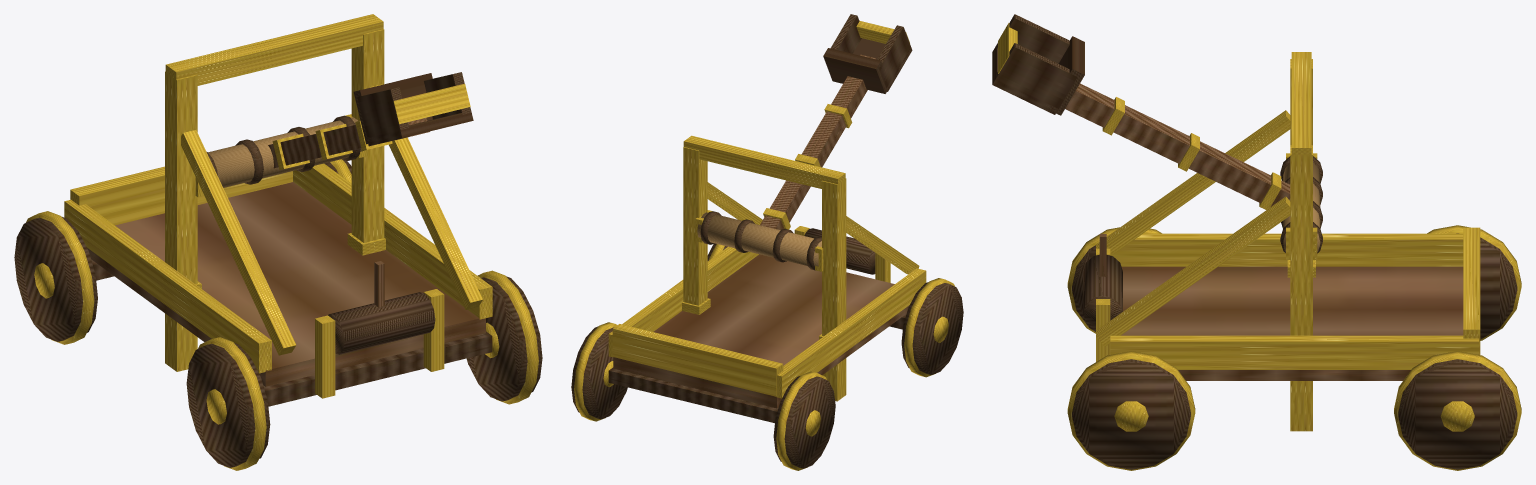
File: ae_catapult_small_royal_lod0.glb
3 views of the same model, side by side, from view 1: azimuth 30°, elevation 25°; view 2: azimuth 150°, elevation 25°; view 3: azimuth 270°, elevation 25° (orthographic). The views are drawn at different scales.
Parts seen in each view (by area): view 1: bed, sideL, post_L, wheel_FL_rim, wheel_RL_rim, cross_top, sideR, brace_-0.72, post_R, wheel_RR_rim, front_stop, winch_drum (+16 smaller); view 2: bed, front_stop, sideL, post_L, wheel_RL_rim, wheel_FL_rim, post_R, arm_beam, cross_top, skein, sideR, axle_front (+12 smaller); view 3: bed, sideR, wheel_FR_rim, wheel_RR_rim, sideL, arm_beam, post_R, brace_0.72, brace_-0.72, spoon_R, wheel_FL_rim, cross_top (+15 smaller).
Boxes of the visible parts, box(x1,y1,x2,y2) form: bed: box(87, 182, 485, 386); sideL: box(64, 199, 271, 373); post_L: box(165, 71, 197, 371); wheel_FL_rim: box(14, 217, 97, 341); wheel_RL_rim: box(186, 343, 270, 467); cross_top: box(165, 14, 383, 85); sideR: box(293, 163, 492, 319); brace_-0.72: box(181, 130, 296, 355); post_R: box(351, 29, 384, 242); wheel_RR_rim: box(466, 276, 542, 401); front_stop: box(70, 166, 292, 225); winch_drum: box(328, 292, 435, 354); bed: box(613, 254, 909, 408); front_stop: box(612, 324, 783, 396); sideL: box(776, 268, 926, 398); post_L: box(822, 178, 846, 401); wheel_RL_rim: box(901, 282, 963, 374); wheel_FL_rim: box(773, 376, 835, 468); post_R: box(683, 147, 707, 305); arm_beam: box(760, 54, 876, 229); cross_top: box(683, 135, 845, 188); skein: box(697, 212, 821, 266); sideR: box(608, 246, 758, 357); axle_front: box(608, 367, 778, 423); bed: box(1121, 266, 1463, 380); sideR: box(1110, 335, 1478, 369); wheel_FR_rim: box(1398, 359, 1517, 469); wheel_RR_rim: box(1072, 359, 1190, 469); sideL: box(1110, 233, 1463, 266); arm_beam: box(1065, 83, 1290, 206); post_R: box(1290, 145, 1312, 431); brace_0.72: box(1096, 196, 1290, 346); brace_-0.72: box(1096, 110, 1290, 255); spoon_R: box(996, 43, 1076, 108); wheel_FL_rim: box(1456, 233, 1517, 339); cross_top: box(1291, 52, 1311, 154).
Size of the model in its own units: 2.3 by 2.92 by 3.73.
3 materials, 3 textured.
